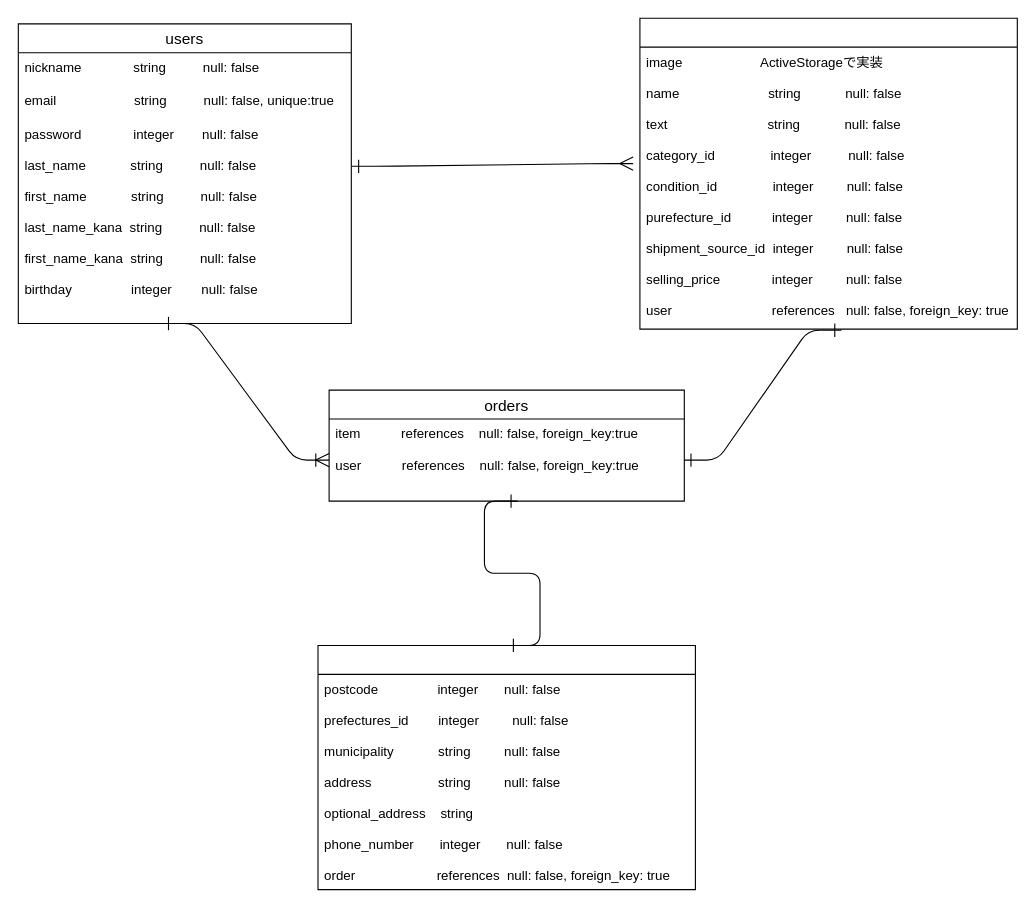
Some shapes in this 1036 by 908 pixel diagram are drawn without their labels. The shapes that lost their labels are listed below. From the top down, each one's box as (x1, y1, x2, y2) in pixels, then its label:
(639, 17, 1017, 329): items
(317, 644, 695, 890): street_addresses
